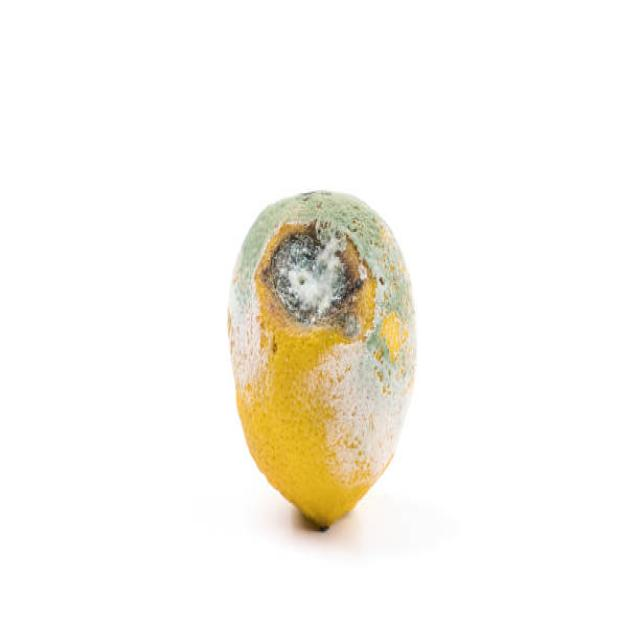Rotten: (224, 187, 418, 526)
